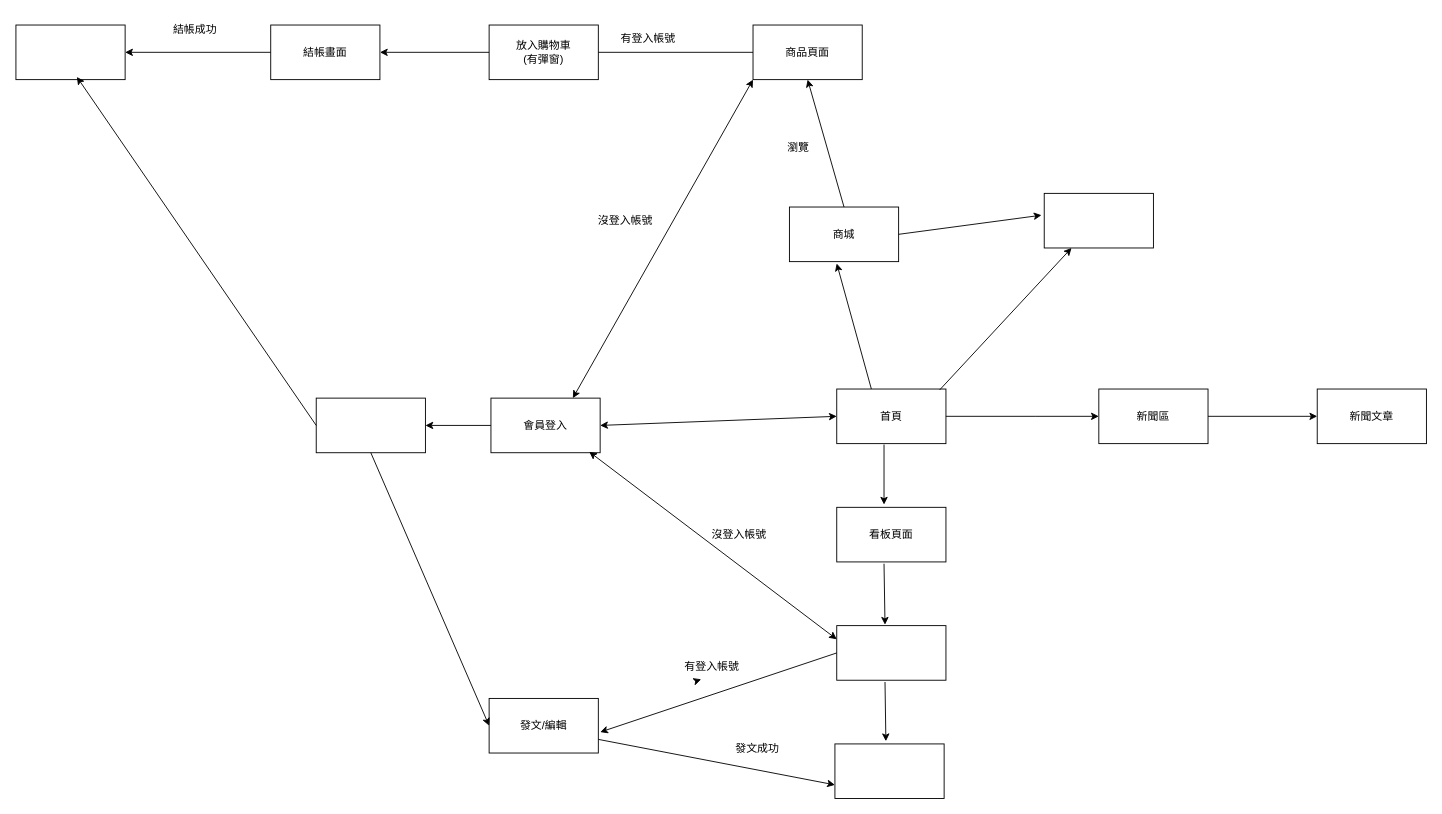
This 1442x814 diagram has some shape labels left out. Here are the shapes that lost their labels. From the top down, the box of each, then its label:
(15, 24, 125, 80): 訂單記錄
(1043, 192, 1153, 248): 客服中心
(315, 397, 425, 453): 個人頁面
(836, 625, 946, 680): 討論區
(834, 743, 944, 799): 討論區文章
